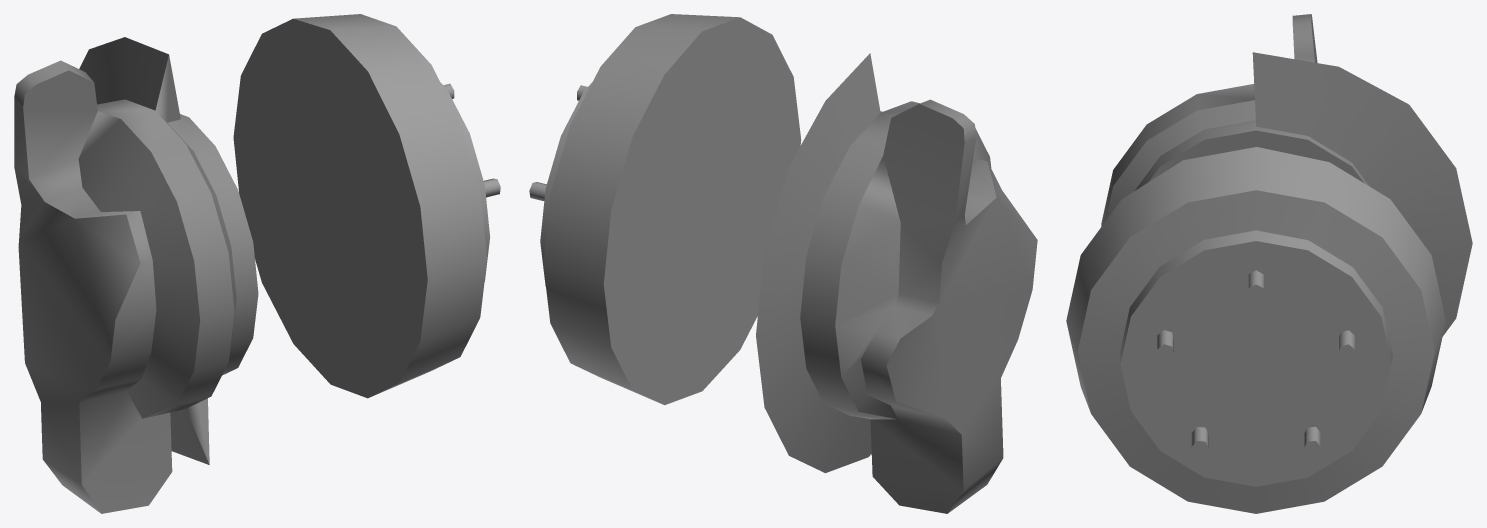
File: hub.glb
The picture shows the model from 3 angles, left to right: view 1: azimuth 30°, elevation 25°; view 2: azimuth 150°, elevation 25°; view 3: azimuth 270°, elevation 25°; orthographic projection. The views are drawn at different scales.
Parts seen in each view (by area): view 1: lansdale_hub_R, lansdale_brakedrum_RL; view 2: lansdale_hub_R, lansdale_brakedrum_RL; view 3: lansdale_brakedrum_RL, lansdale_hub_R.
Part boxes in pixels (box(x1,y1,x2,y2)): lansdale_hub_R: box(14, 37, 258, 513); lansdale_brakedrum_RL: box(233, 14, 500, 398); lansdale_hub_R: box(756, 53, 1037, 513); lansdale_brakedrum_RL: box(529, 14, 801, 405); lansdale_brakedrum_RL: box(1066, 147, 1445, 513); lansdale_hub_R: box(1101, 14, 1472, 336).
Bounding box in the file's own units: 0.00464 × 0.00459 × 0.00409.
Materials: 2 (1 with a texture image).
